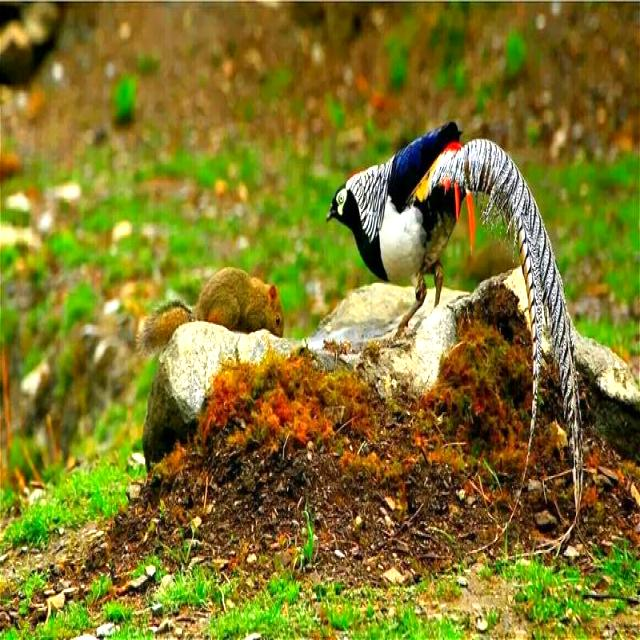Chrysolophus amherstiae: (406, 139, 581, 518)
